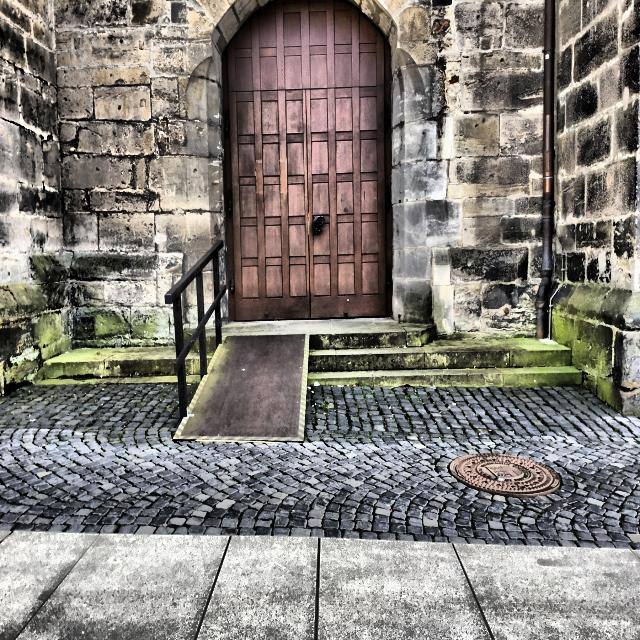escada: (311, 330, 583, 388)
